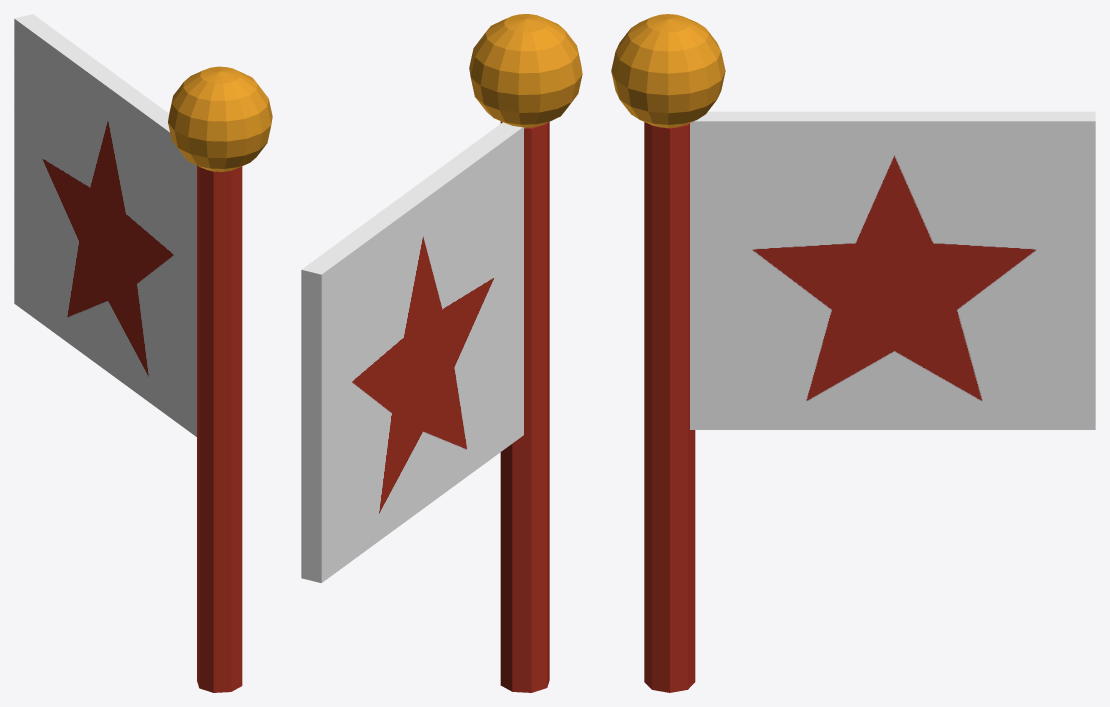
Rendered from mdlFlag.fbx.
3 views of the same model, side by side, from view 1: azimuth 30°, elevation 25°; view 2: azimuth 150°, elevation 25°; view 3: azimuth 270°, elevation 25° (orthographic). The views are drawn at different scales.
Visible parts, largest first — view 1: Cube; view 2: Cube; view 3: Cube.
Part boxes in pixels (bbox=[...]): Cube: bbox=[14, 14, 272, 692]; Cube: bbox=[301, 14, 582, 692]; Cube: bbox=[611, 14, 1095, 692].
Size of the model in its own units: 2.7 by 17.23 by 11.42.
1 material, 1 textured.
